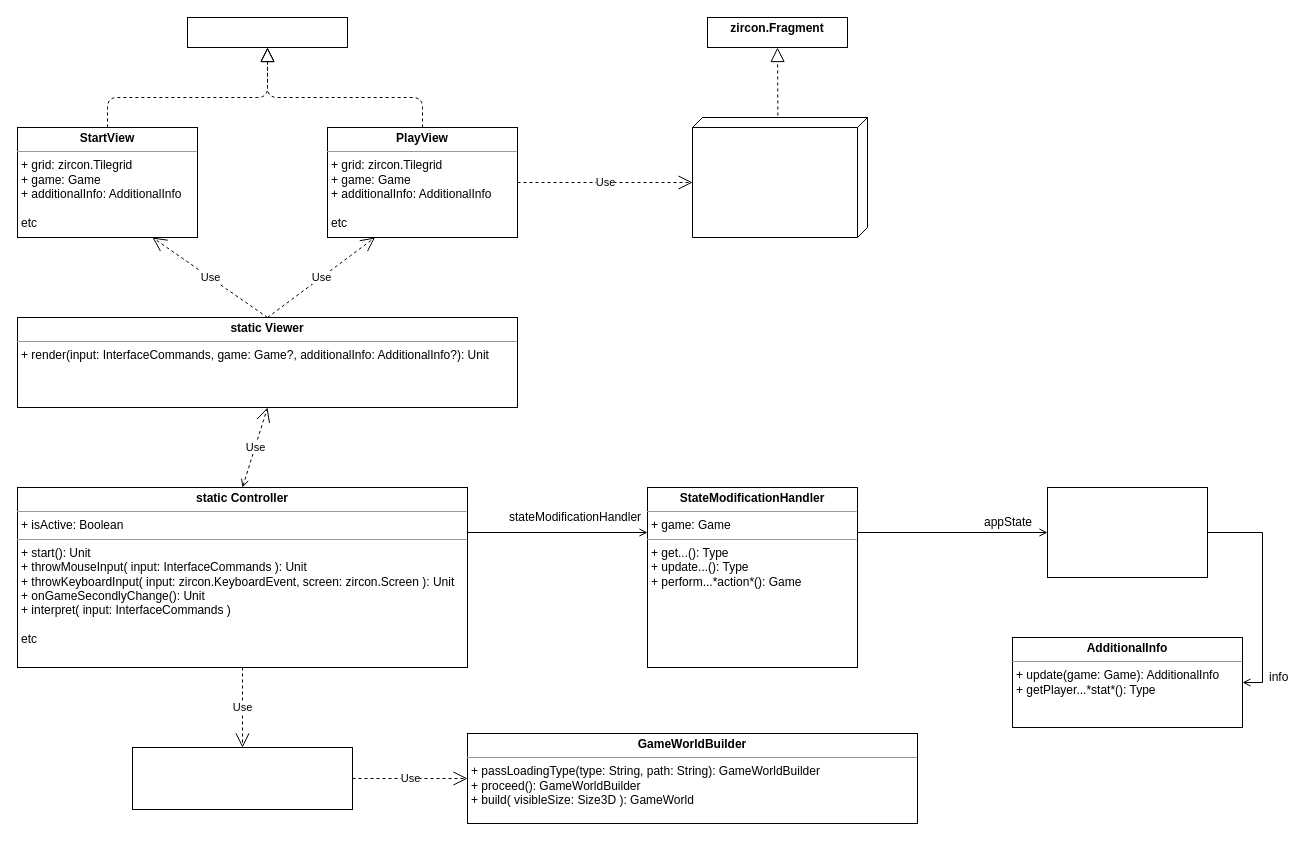
Some shapes in this 1315 by 841 pixel diagram are drawn without their labels. Each missing label, with the centre of its shape:
AppState + game: Game + method(): Type: the point at 1127,532
FragmentsPool: the point at 780,177
static Initializer + initialize(): StateModificationHandler: the point at 242,778
zircon.BaseView: the point at 267,32
